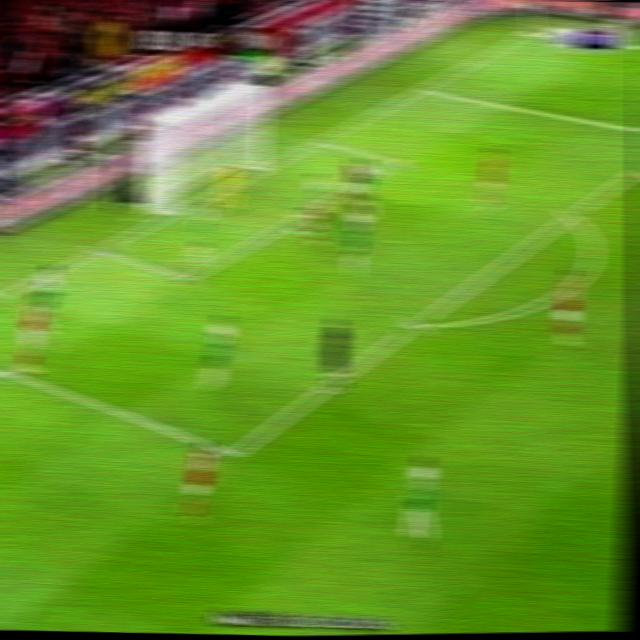bigarea_bottom_inner: (215, 434, 248, 470)
bigarea_top_outter: (407, 77, 434, 99)
bottom_arc_area_intersection: (400, 307, 431, 338)
corner: (516, 20, 547, 39)
smallarea_bottom_inner: (171, 260, 202, 291)
smallarea_bottom_outter: (84, 236, 112, 260)
smallarea_top_inner: (382, 147, 412, 172)
smallarea_top_outter: (303, 129, 332, 152)
top_arc_area_intersection: (557, 203, 584, 225)
